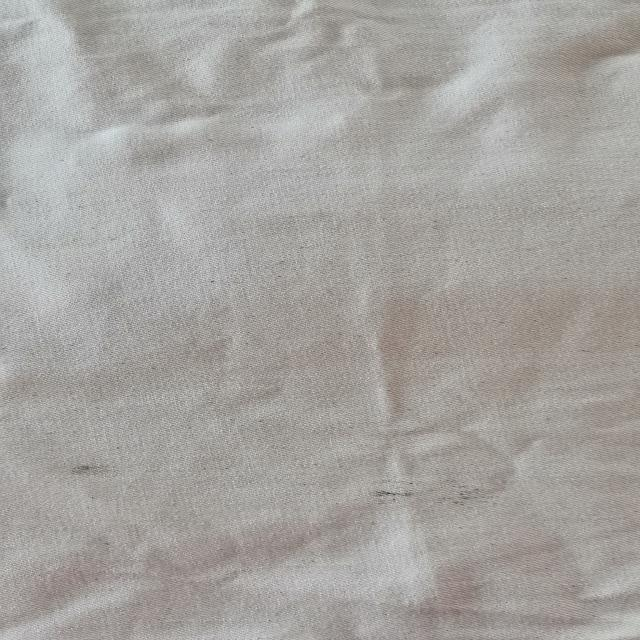taaaches: (366, 470, 492, 517), (55, 445, 171, 491)
